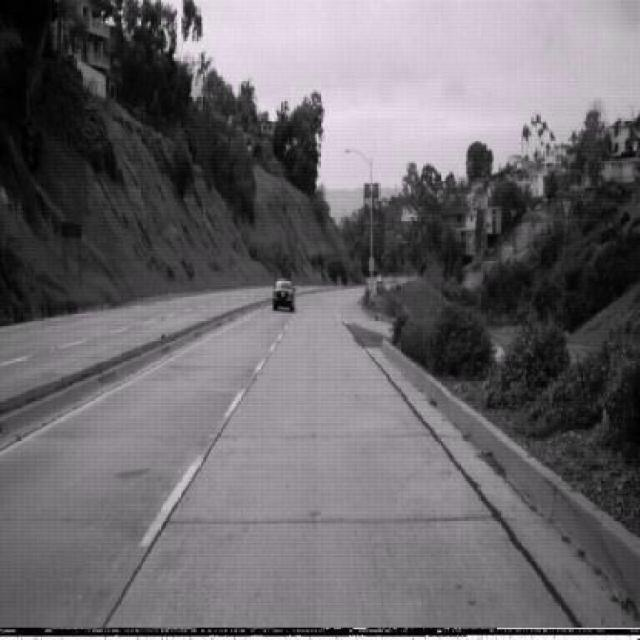yield: (557, 189, 578, 235)
